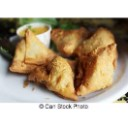samosa: (28, 57, 76, 99), (80, 42, 117, 93), (13, 29, 55, 73), (52, 25, 86, 56)
